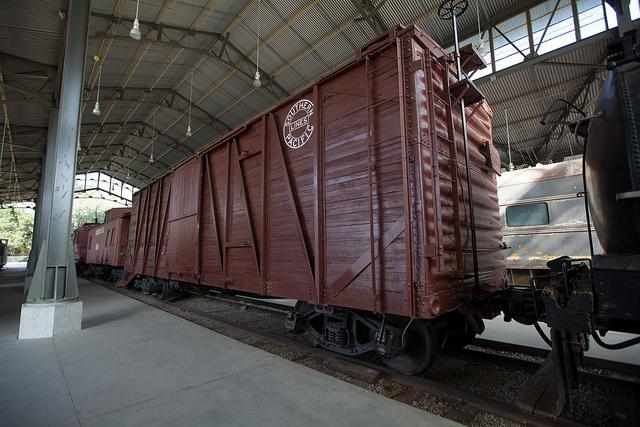Train: (76, 25, 640, 405), (507, 157, 602, 271)
